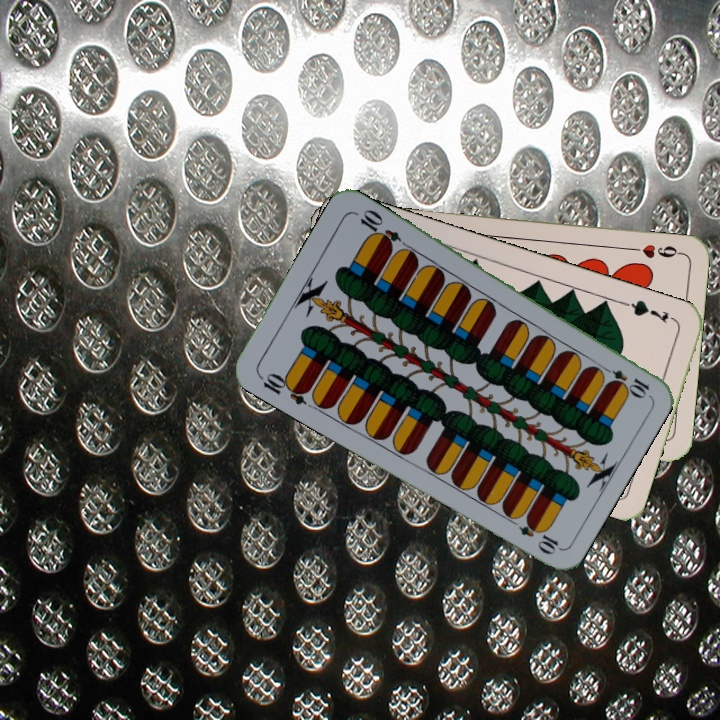E10: (255, 368, 312, 408), (596, 361, 652, 399)
G7: (620, 295, 678, 326)
H9: (625, 240, 684, 261)
